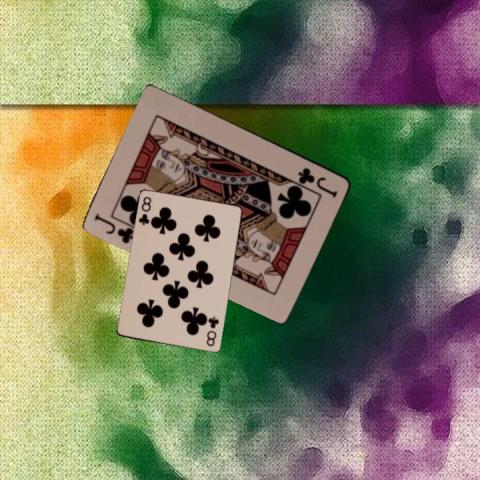8c: (203, 314, 221, 348), (135, 193, 153, 227)
Jc: (91, 210, 136, 244), (296, 164, 340, 198)
